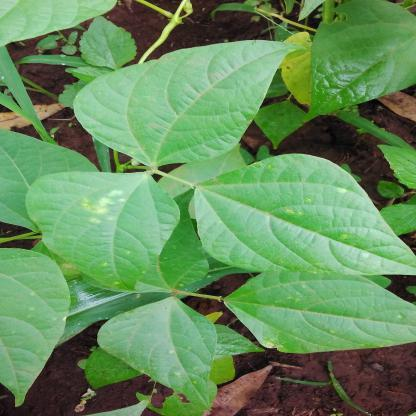Beans_Rust: (191, 155, 416, 281), (27, 168, 182, 290), (225, 274, 416, 364)
